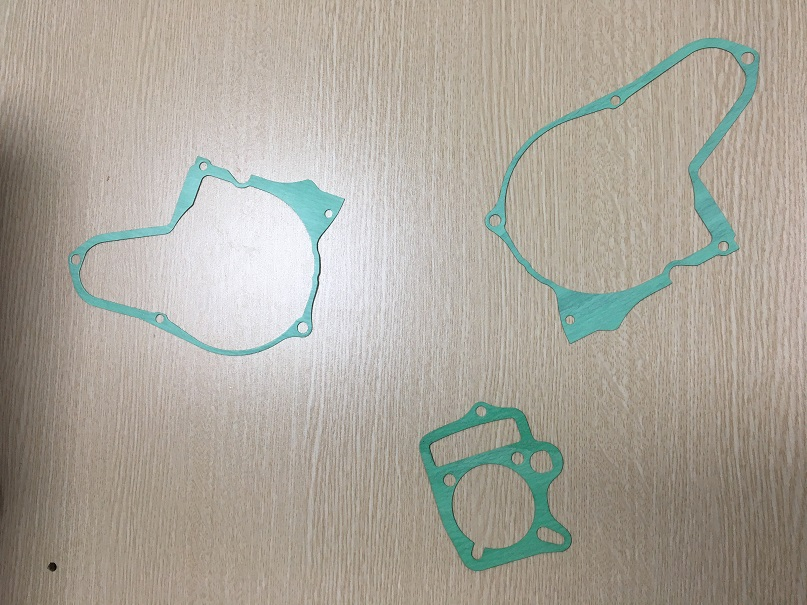type1: (473, 32, 773, 355), (60, 147, 348, 377)
type4: (407, 395, 582, 579)
